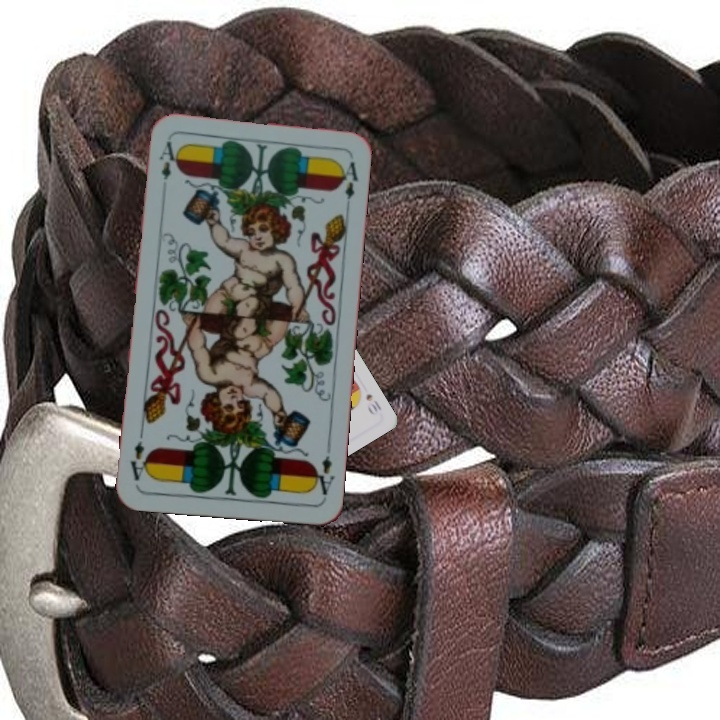EA: (309, 441, 337, 498), (155, 137, 177, 183)
S10: (362, 390, 384, 418)
